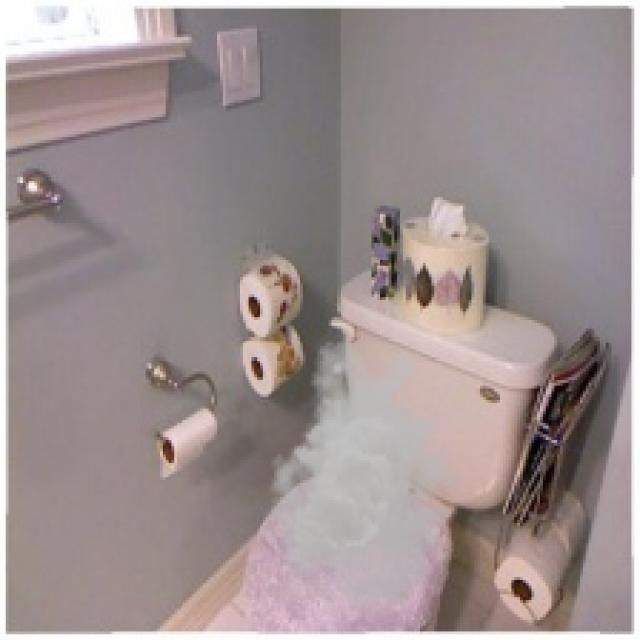smoke: (263, 337, 474, 612)
